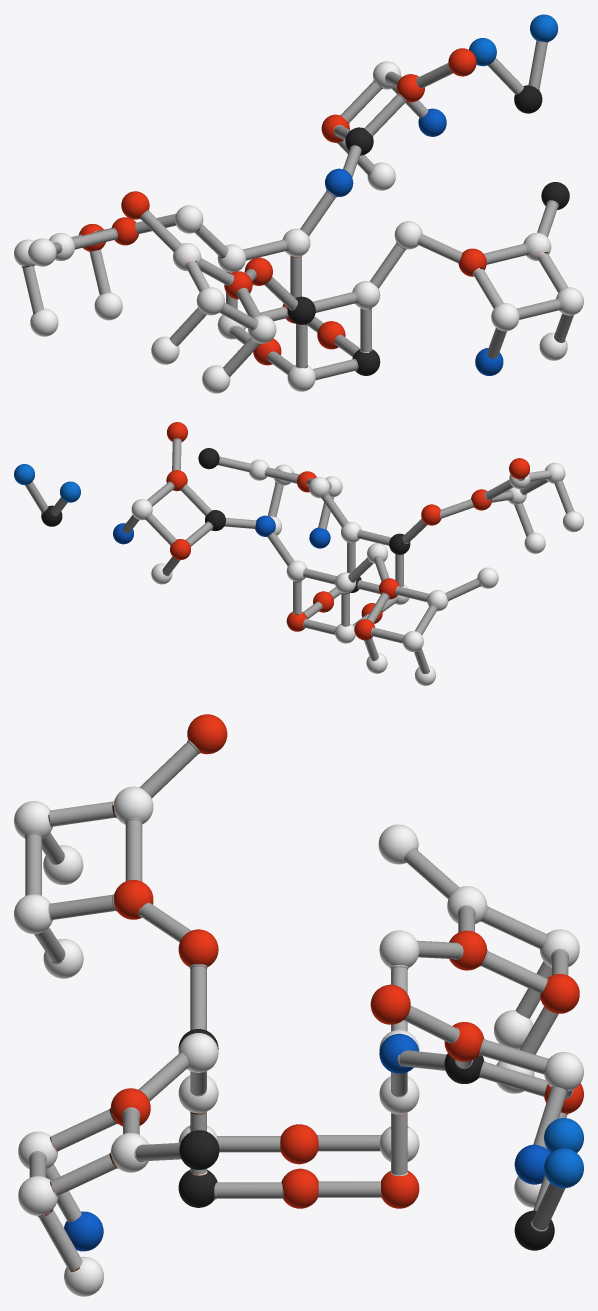
The model's file is molecular-structure-model.glb.
The picture shows the model from 3 angles, top to bottom: view 1: azimuth 30°, elevation 25°; view 2: azimuth 150°, elevation 25°; view 3: azimuth 270°, elevation 25°; orthographic projection. The views are drawn at different scales.
Parts seen in each view (by area): view 1: Object_141; view 2: Object_141; view 3: Object_141.
Boxes of the visible parts, x1,y1,x2,y2 form: Object_141: (14, 14, 583, 393); Object_141: (14, 422, 583, 685); Object_141: (14, 714, 583, 1296).
Bounding box in the file's own units: 1.06 × 0.4068 × 0.6315.
1 material, 1 textured.
